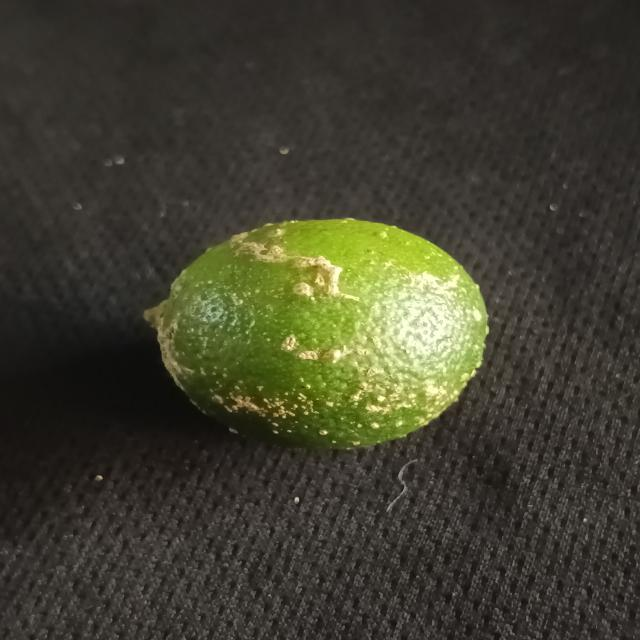scab: (145, 218, 495, 458)
